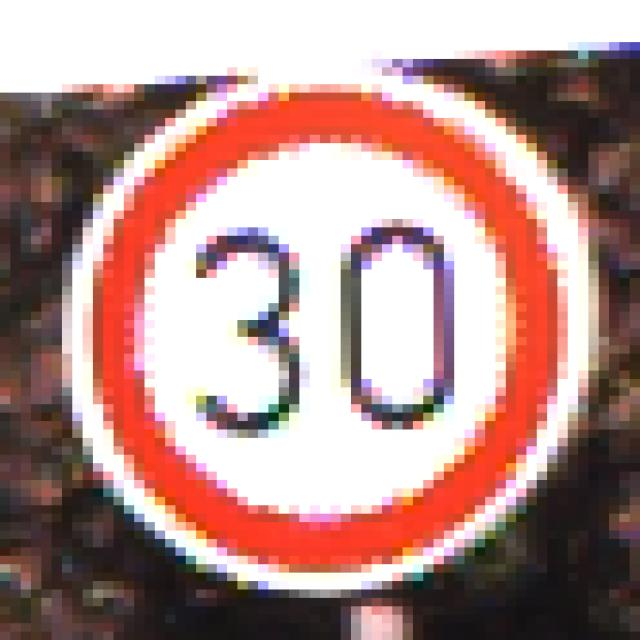Speed Limit -30-: (46, 59, 584, 573)
